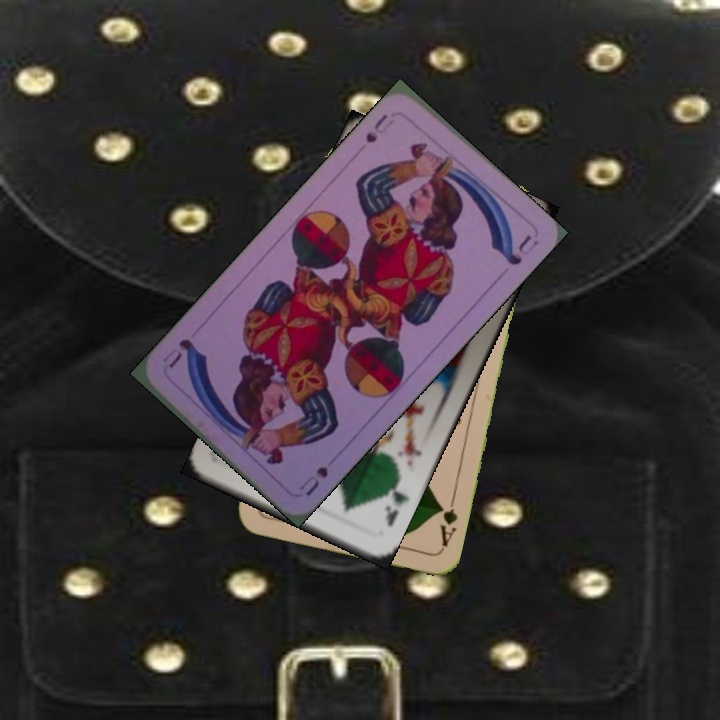GA: (434, 492, 460, 551)
GK: (381, 479, 412, 529)
SU: (295, 462, 331, 499), (361, 110, 390, 146)
